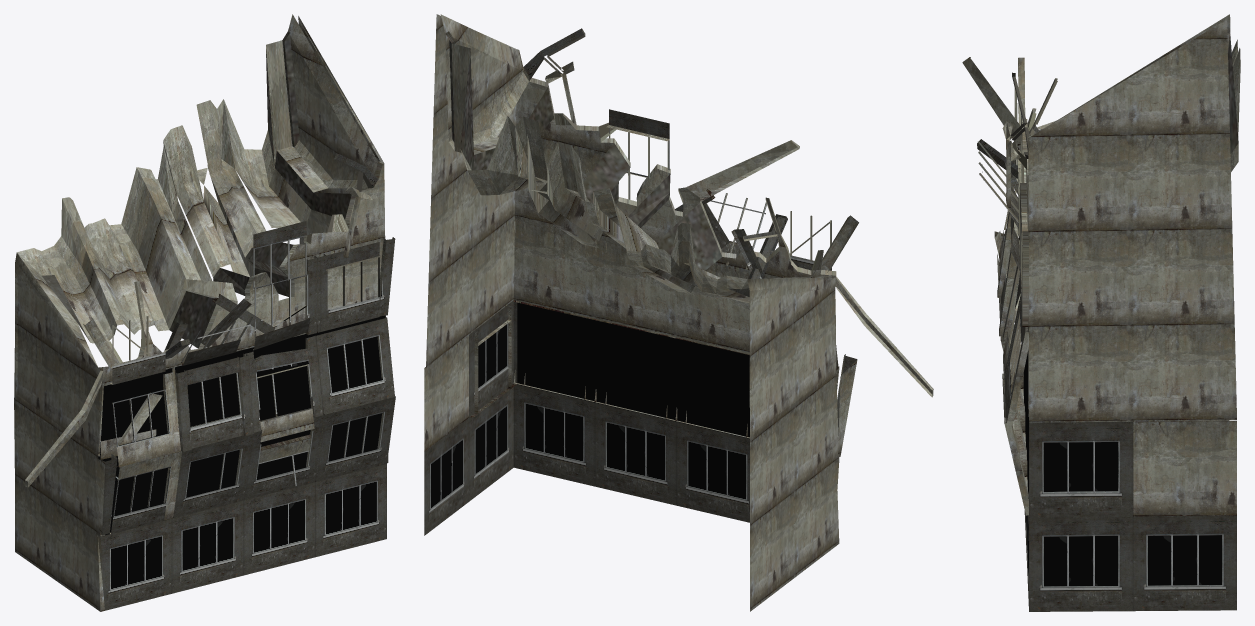
File: Ruin_Collapsed_02.fbx
The picture shows the model from 3 angles, left to right: view 1: azimuth 30°, elevation 25°; view 2: azimuth 150°, elevation 25°; view 3: azimuth 270°, elevation 25°; orthographic projection. The views are drawn at different scales.
Parts seen in each view (by area): view 1: Ruin_Collapsed_02_Part1_plasterwall021a, Ruin_Collapsed_02_Part0_CollapsedBuilding02a; view 2: Ruin_Collapsed_02_Part1_plasterwall021a, Ruin_Collapsed_02_Part0_CollapsedBuilding02a; view 3: Ruin_Collapsed_02_Part1_plasterwall021a, Ruin_Collapsed_02_Part0_CollapsedBuilding02a.
Part boxes in pixels (<box>): Ruin_Collapsed_02_Part1_plasterwall021a: <box>14,14,395,611</box>; Ruin_Collapsed_02_Part0_CollapsedBuilding02a: <box>42,31,395,610</box>; Ruin_Collapsed_02_Part1_plasterwall021a: <box>424,14,933,611</box>; Ruin_Collapsed_02_Part0_CollapsedBuilding02a: <box>424,28,857,535</box>; Ruin_Collapsed_02_Part1_plasterwall021a: <box>962,14,1240,516</box>; Ruin_Collapsed_02_Part0_CollapsedBuilding02a: <box>977,34,1238,611</box>.
Size of the model in its own units: 3.09 by 3.7 by 1.59.
